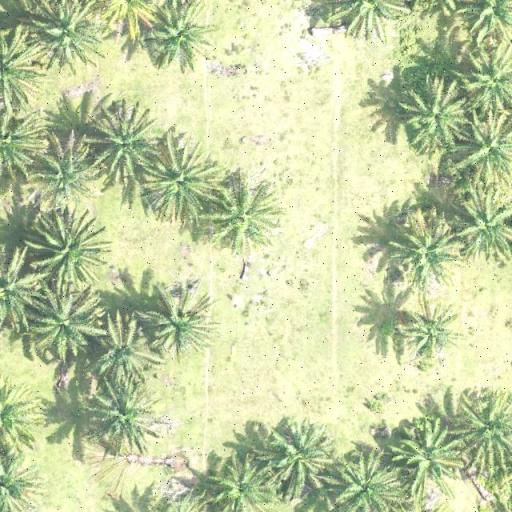Ganoderma: (211, 191, 269, 244), (411, 310, 458, 352)
